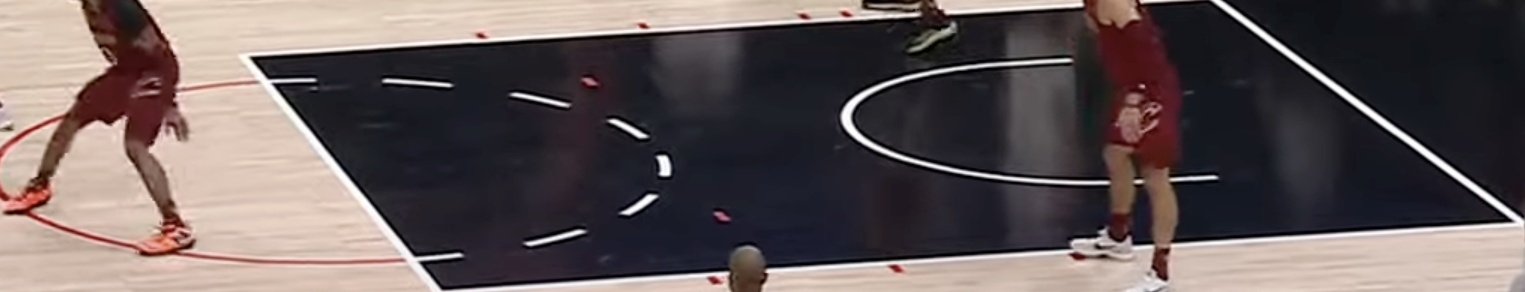endLine: (1218, 1, 1525, 225)
freeThrow: (243, 55, 438, 292)
lane: (483, 223, 1524, 290), (243, 1, 1181, 55)
